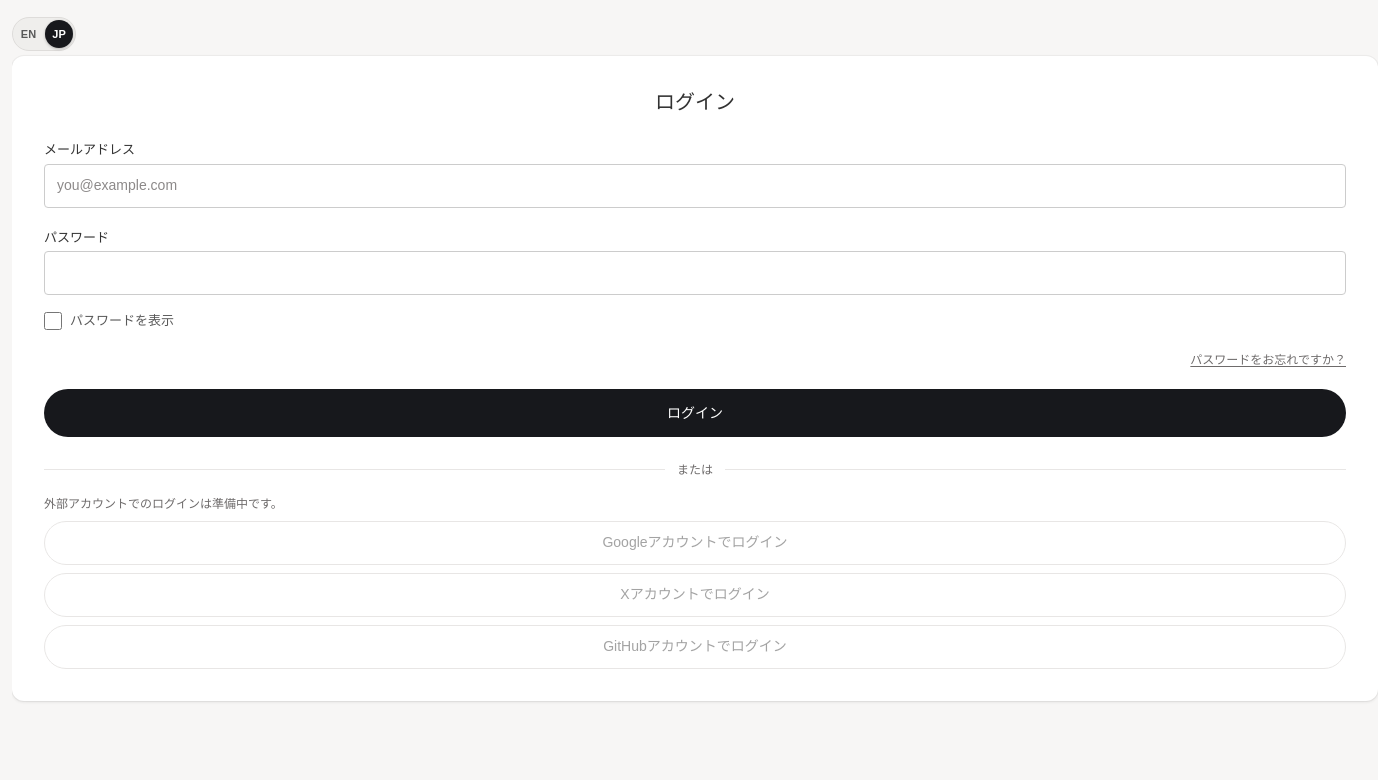
does not navigate after storage failure
Type "test@example.com" into the field labelled "メールアドレス". click: (695, 186)
box: [44, 164, 1346, 208]
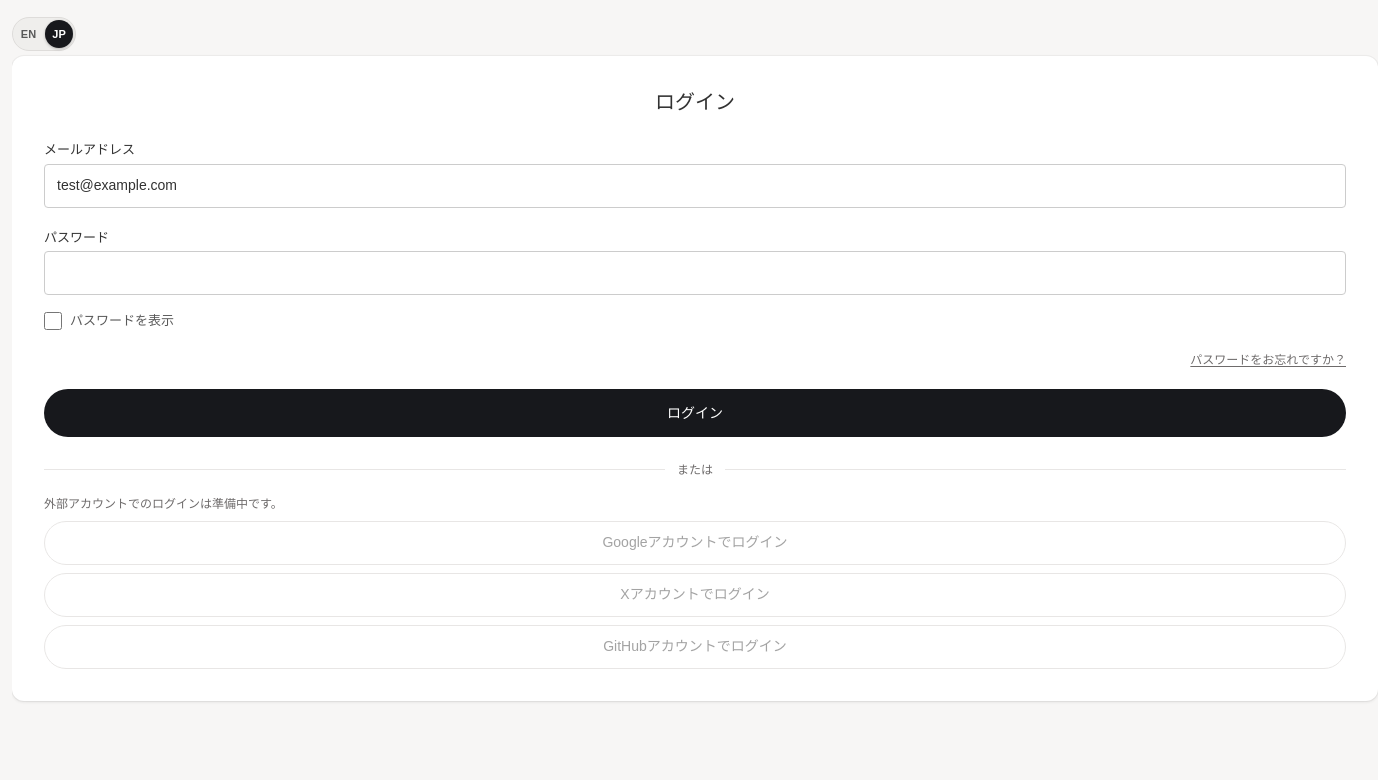
Type "Password1!" into the password field labelled "パスワード". click: (695, 273)
box: [44, 251, 1346, 295]
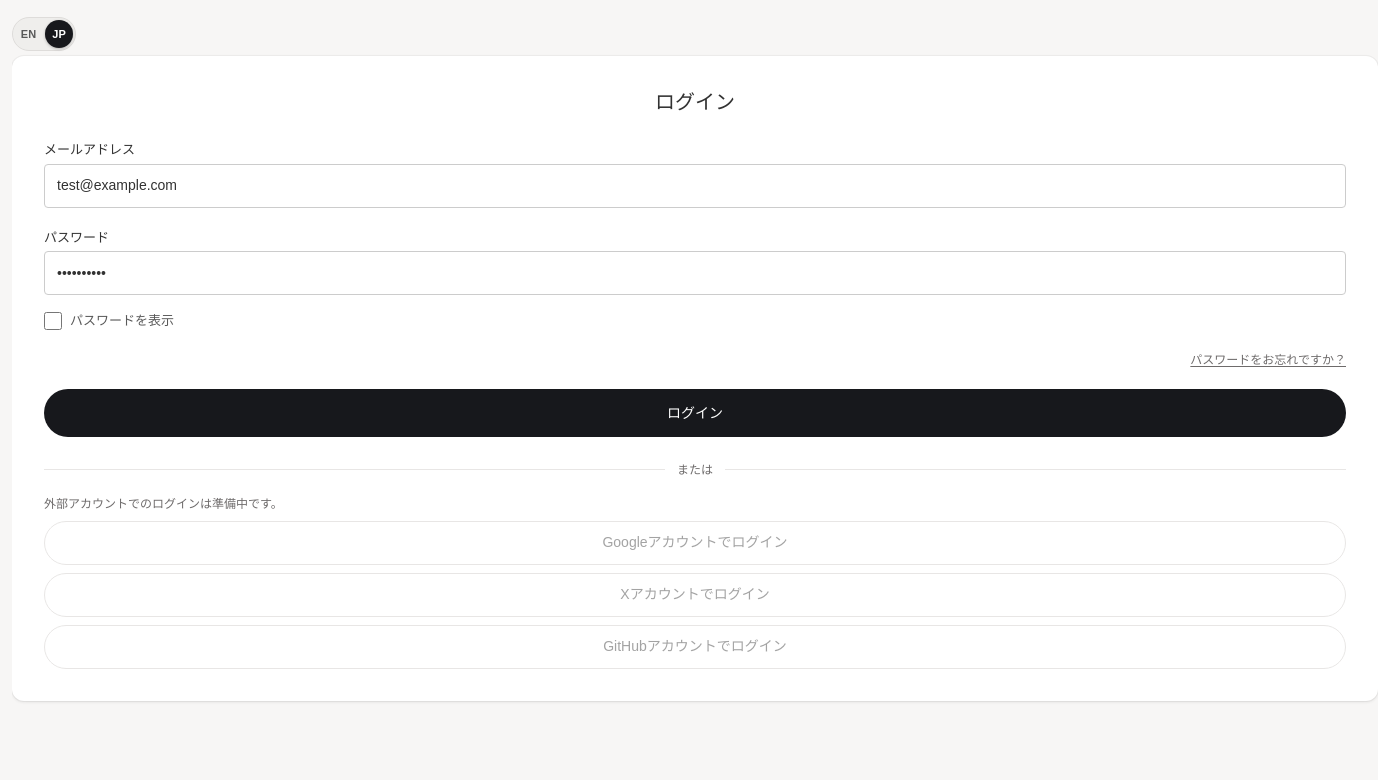
Click the button "ログイン". click: click(695, 412)
box: [44, 388, 1346, 436]
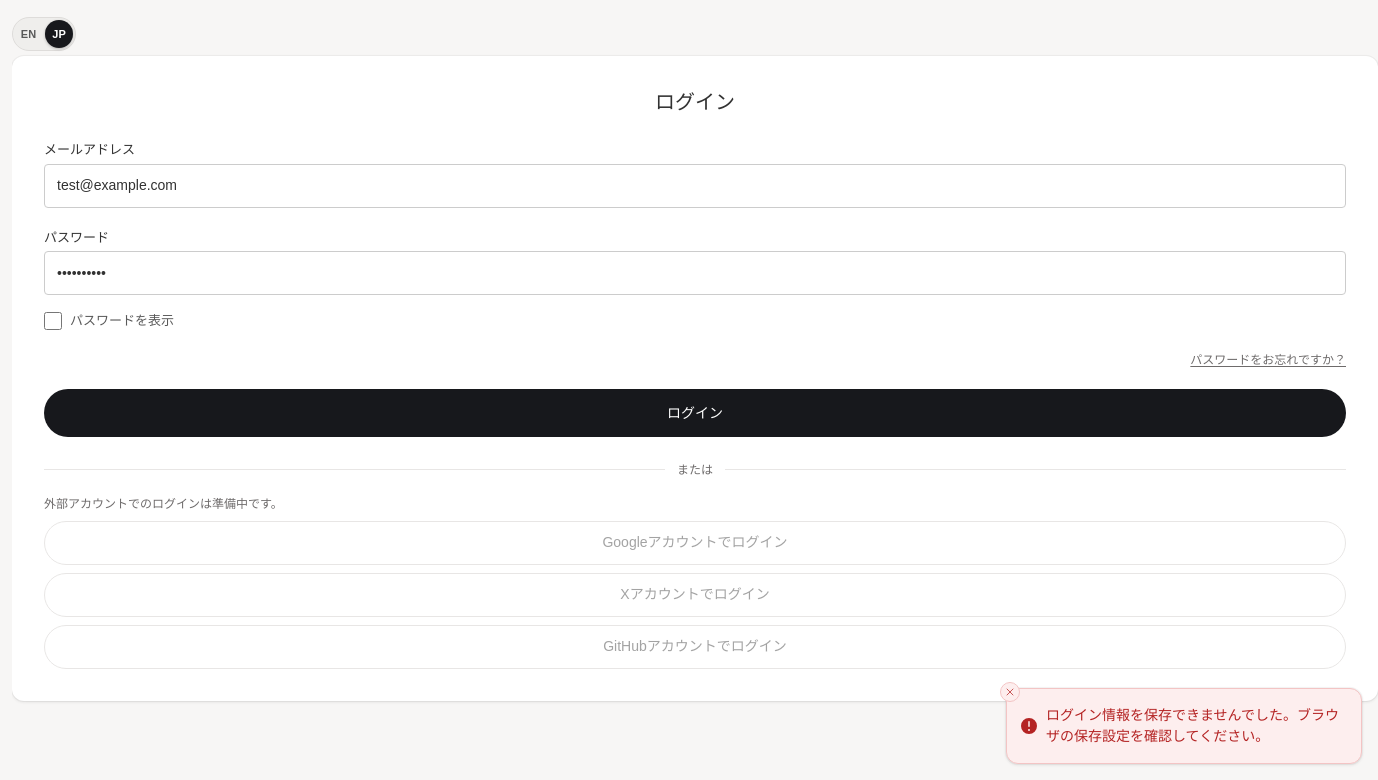
Result: the text "ログイン情報を保存できませんでした。ブラウザの保存設定を確認してください。" is shown at [1046, 705, 1345, 747]
